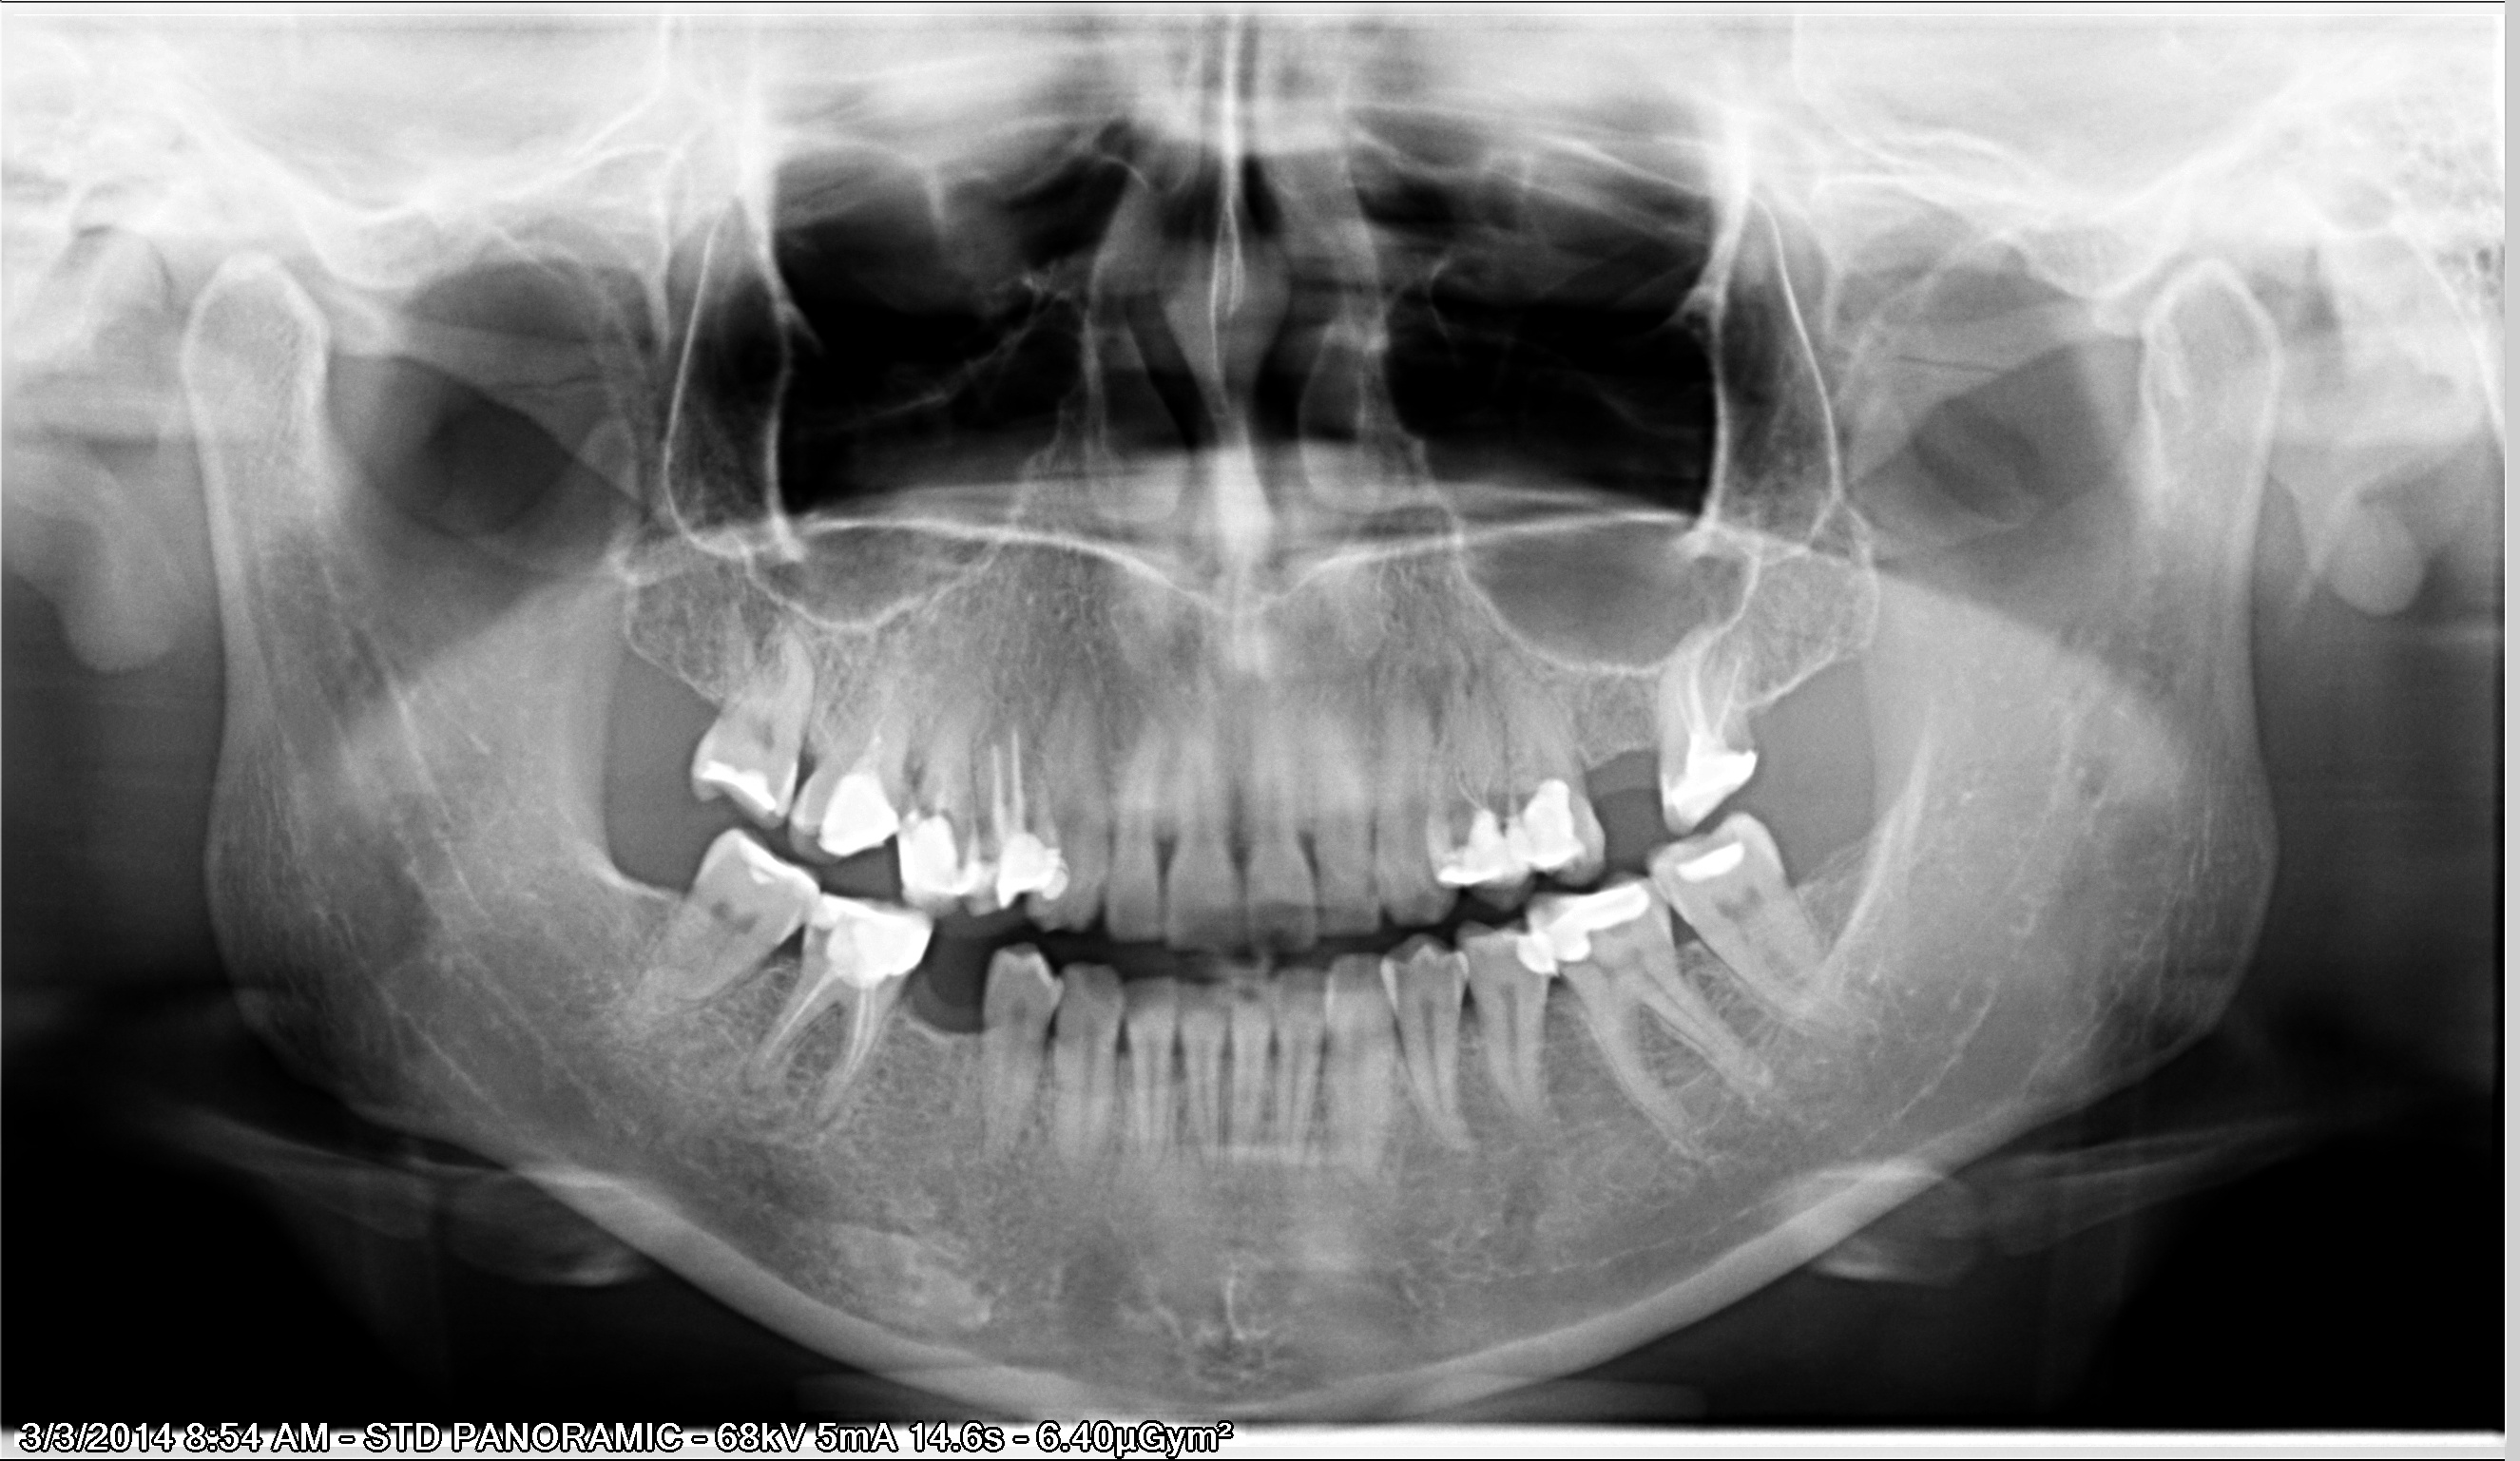API: (725, 1051, 784, 1113), (795, 1087, 837, 1157)
CAR: (890, 764, 970, 838), (1710, 732, 1779, 781), (788, 910, 835, 964), (1590, 911, 1637, 946)
END: (737, 965, 889, 1137), (1664, 624, 1750, 736), (977, 713, 1052, 838), (1437, 741, 1511, 821)
PRR: (816, 880, 930, 991), (1525, 884, 1661, 972), (1650, 717, 1753, 830), (1496, 762, 1595, 877), (894, 795, 972, 913), (1424, 809, 1536, 889), (819, 765, 897, 857), (988, 830, 1066, 915), (701, 743, 779, 824), (1663, 831, 1763, 884), (1497, 924, 1565, 981)
